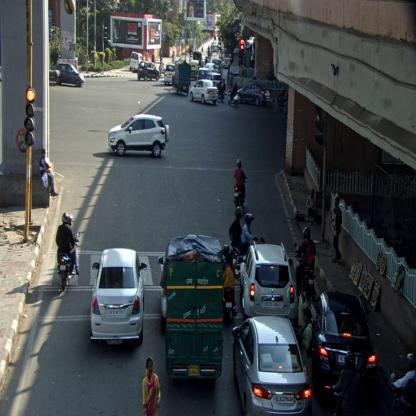car: (232, 315, 312, 415), (311, 291, 376, 412), (90, 246, 149, 354), (239, 240, 299, 321), (108, 114, 170, 158), (54, 64, 86, 91), (238, 82, 272, 106), (189, 78, 219, 104), (137, 60, 162, 82), (130, 52, 144, 74), (165, 64, 175, 86)
motorcycle: (228, 206, 266, 270), (55, 212, 81, 292), (294, 226, 316, 302), (222, 252, 236, 327), (233, 158, 248, 213), (273, 88, 289, 115), (217, 79, 225, 102)
truck: (164, 233, 223, 395), (175, 60, 192, 99)
